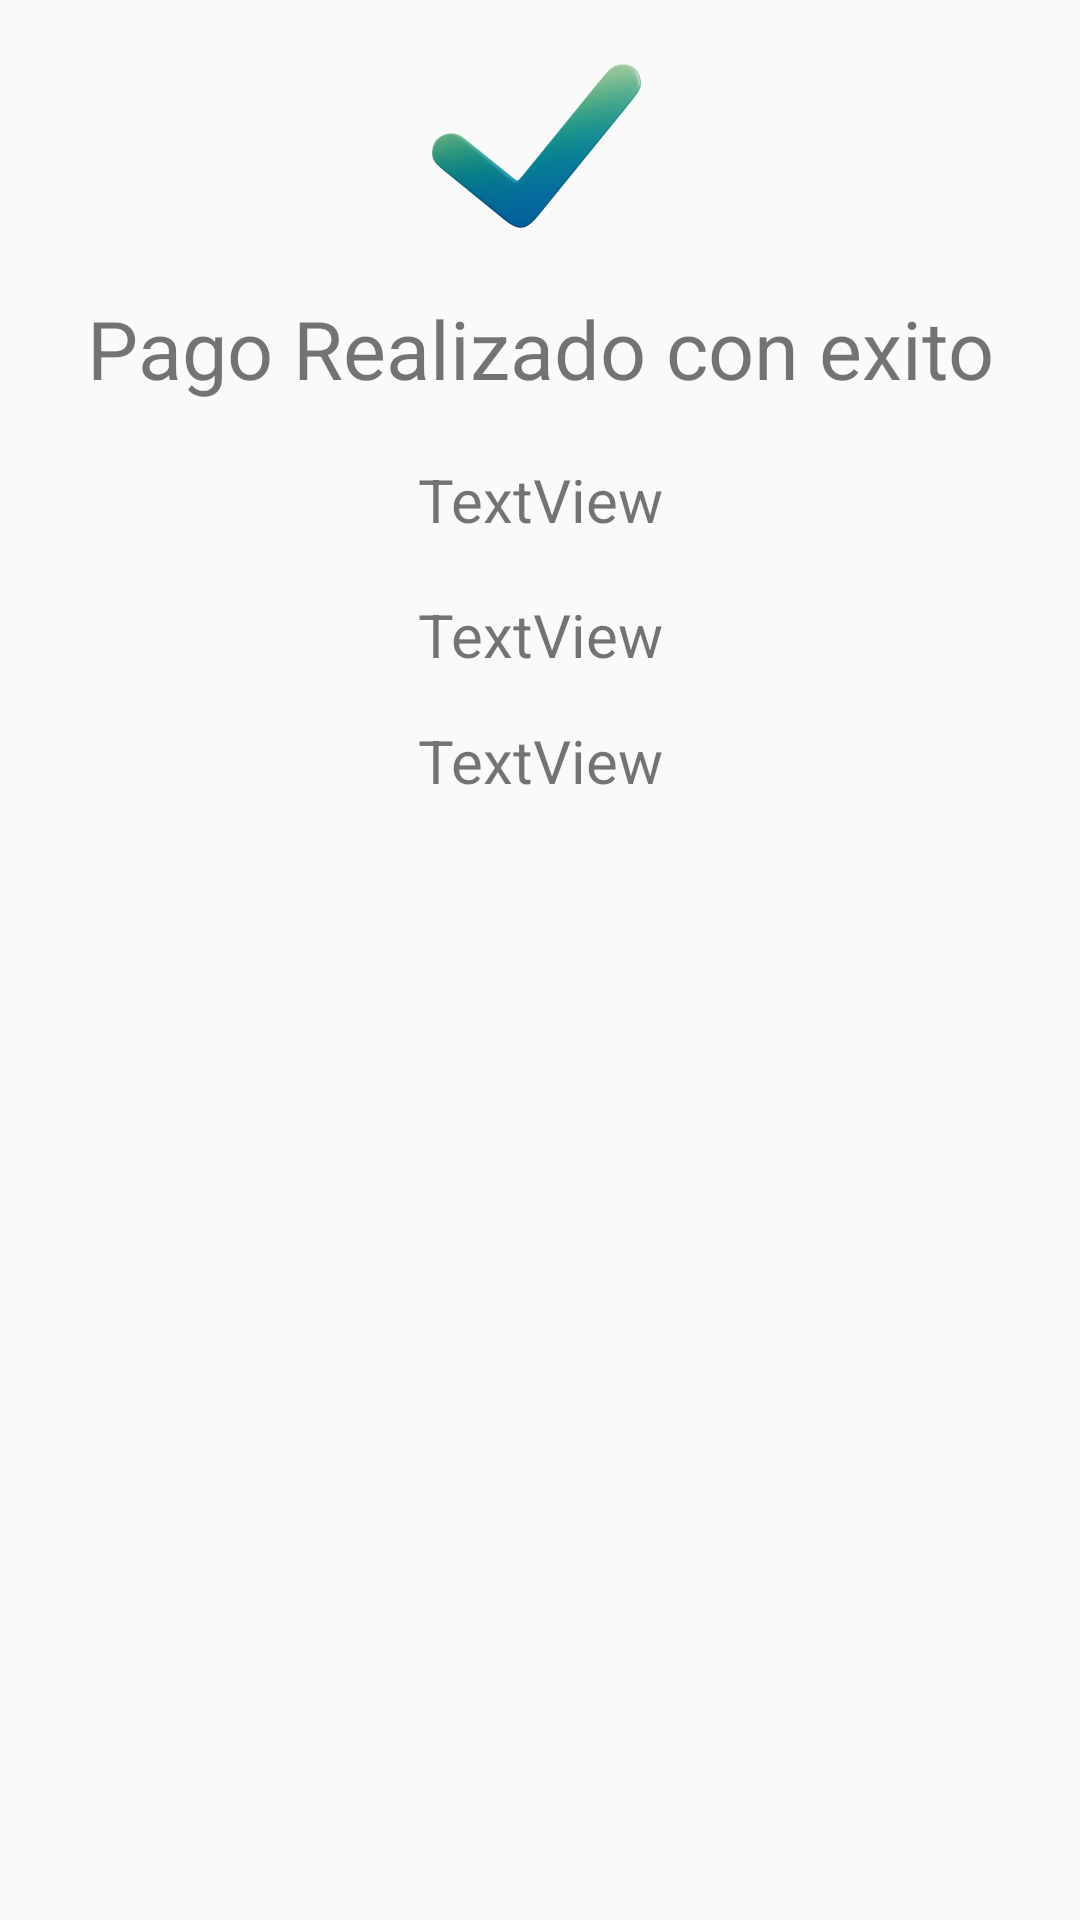

Where to tap for icons on this 1080x1920 app screen, as (x,y):
tick ok correct: (536,146)
